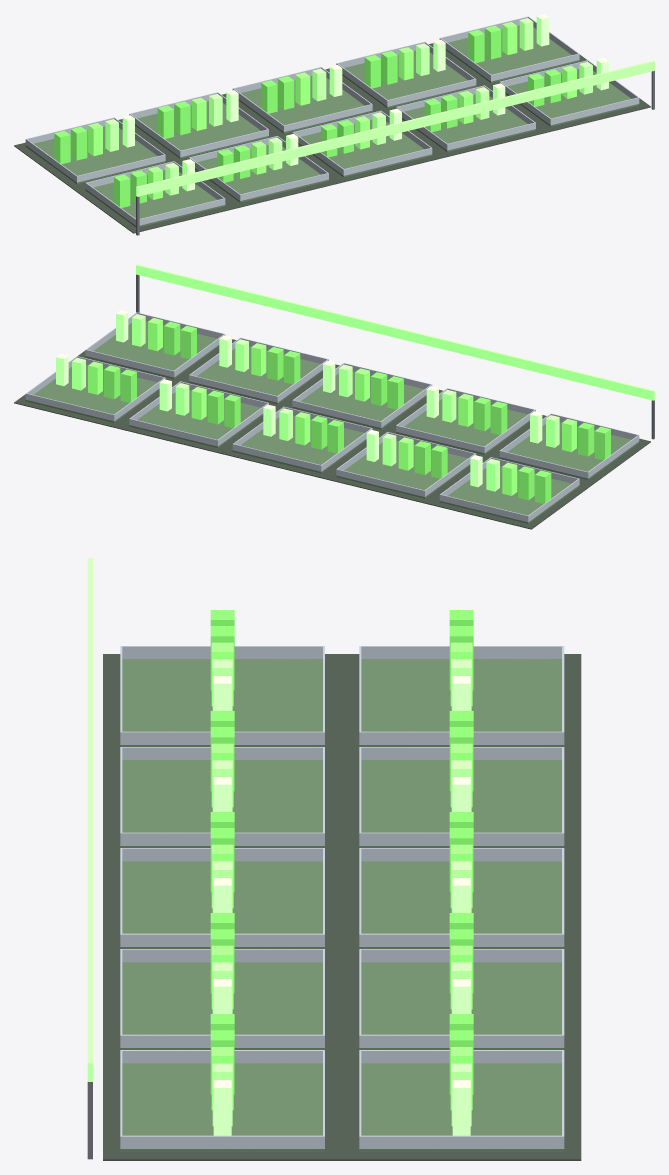
File: pack-science-os.glb
3 renders of one model, top to bottom at view 1: azimuth 30°, elevation 25°; view 2: azimuth 150°, elevation 25°; view 3: azimuth 270°, elevation 25°, orthographic. The views are drawn at different scales.
Parts seen in each view (by area): view 1: Cognition.X : Science OS; view 2: Cognition.X : Science OS; view 3: Cognition.X : Science OS.
Boxes of the visible parts, box(x1,y1,x2,y2) form: Cognition.X : Science OS: box(14, 14, 654, 235); Cognition.X : Science OS: box(14, 264, 654, 529); Cognition.X : Science OS: box(87, 558, 581, 1160).
Size of the model in its own units: 70 by 6.3 by 28.9.
